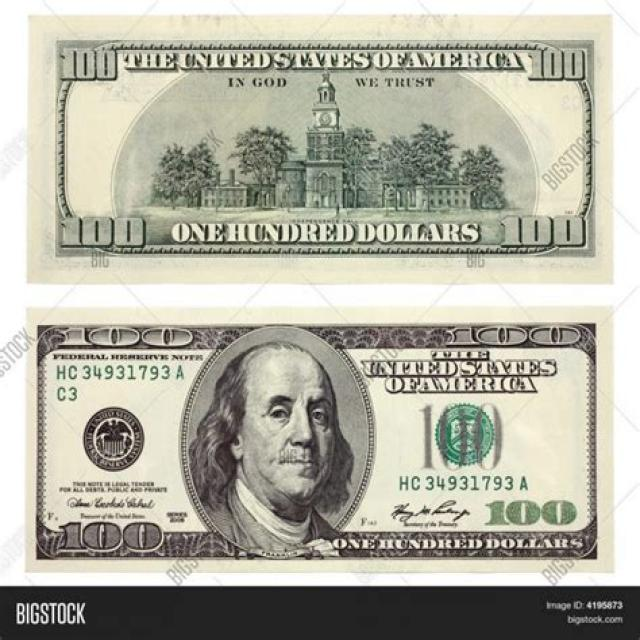Hundred: (26, 308, 613, 578)
